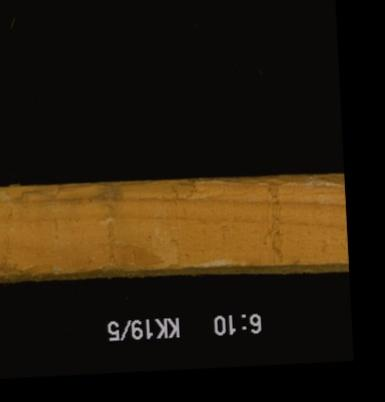wave: (195, 174, 343, 195)
